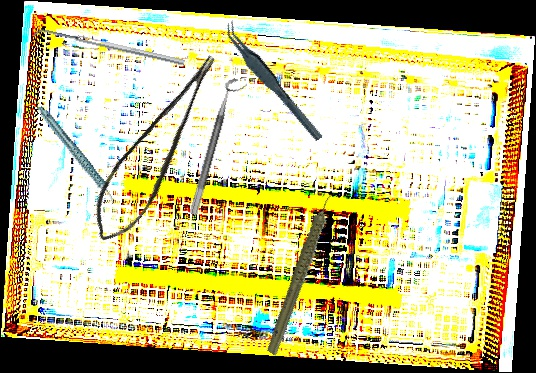Fixation Ring: (188, 76, 248, 219)
Handpiece: (236, 189, 371, 357), (37, 95, 116, 216)
Micro Scissor: (73, 50, 248, 252)
Spatula Surgical: (33, 25, 185, 72)
Tissue Forceps: (221, 13, 324, 151)
